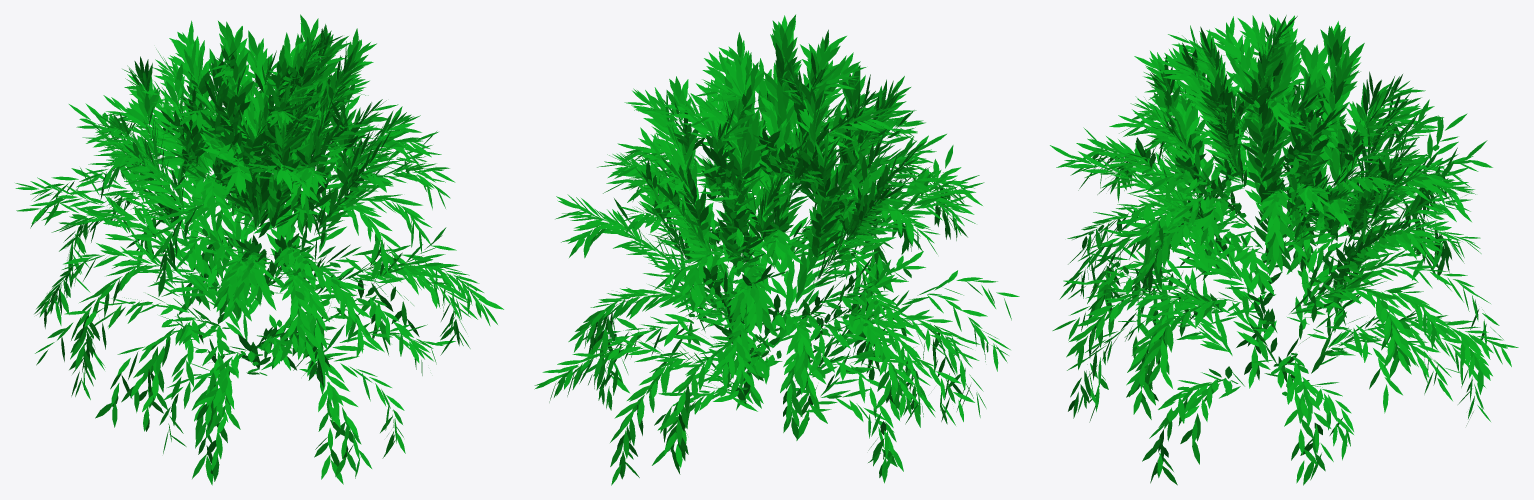
Rendered from summerLeaves.fbx.
3 renders of one model, left to right at view 1: azimuth 30°, elevation 25°; view 2: azimuth 150°, elevation 25°; view 3: azimuth 270°, elevation 25°, orthographic.
Parts seen in each view (by area): view 1: leaves; view 2: leaves; view 3: leaves.
Boxes of the visible parts, <box> form: leaves: <box>15,14,503,485</box>; leaves: <box>534,14,1019,485</box>; leaves: <box>1050,14,1518,485</box>.
Size of the model in its own units: 578 by 604 by 605.
